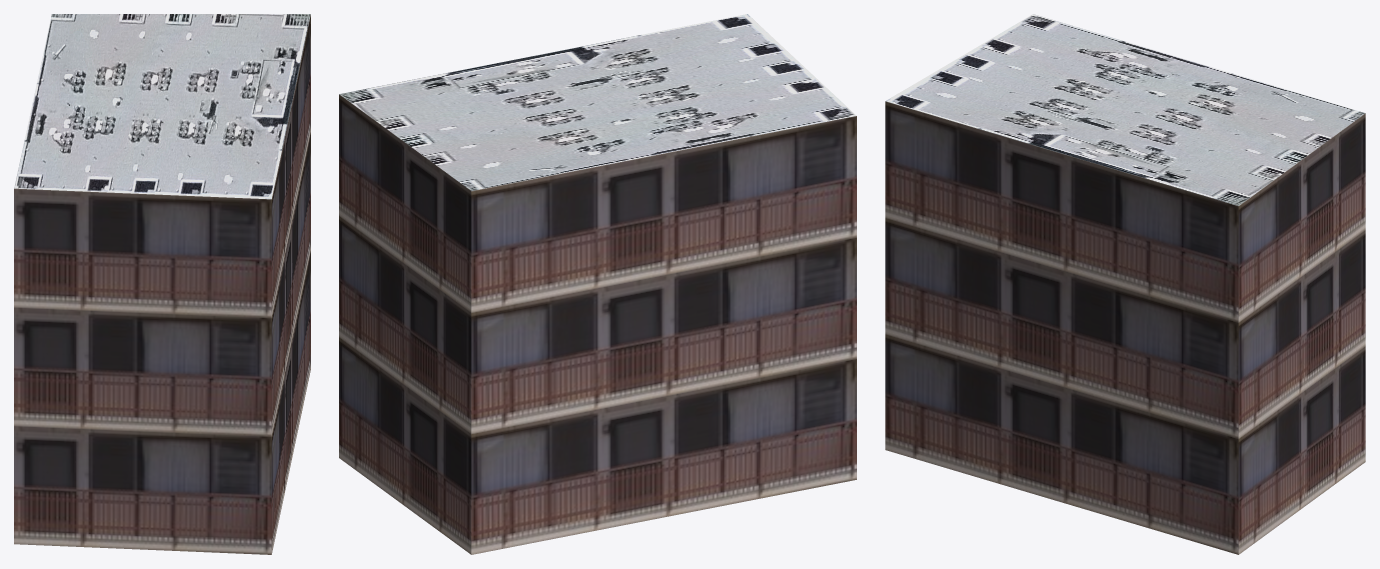
Rendered from ResTex__5105.fbx.
3 views of the same model, side by side, from view 1: azimuth 30°, elevation 25°; view 2: azimuth 150°, elevation 25°; view 3: azimuth 270°, elevation 25° (orthographic). The views are drawn at different scales.
Parts seen in each view (by area): view 1: CityEngineMaterial_6_m, CityEngineMaterial_8_m; view 2: CityEngineMaterial_6_m, CityEngineMaterial_8_m; view 3: CityEngineMaterial_6_m, CityEngineMaterial_8_m.
Boxes of the visible parts, x1,y1,x2,y2 form: CityEngineMaterial_6_m: (14,14,310,554); CityEngineMaterial_8_m: (14,14,310,199); CityEngineMaterial_6_m: (339,94,856,554); CityEngineMaterial_8_m: (339,14,856,190); CityEngineMaterial_6_m: (885,101,1365,554); CityEngineMaterial_8_m: (885,14,1365,205).
Bounding box in the file's own units: 10.63 × 9 × 11.23.
Materials: 2 (2 with a texture image).
